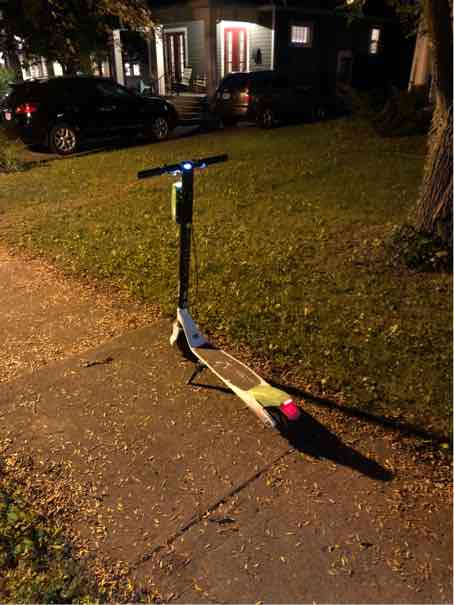scooter: (125, 152, 345, 451)
